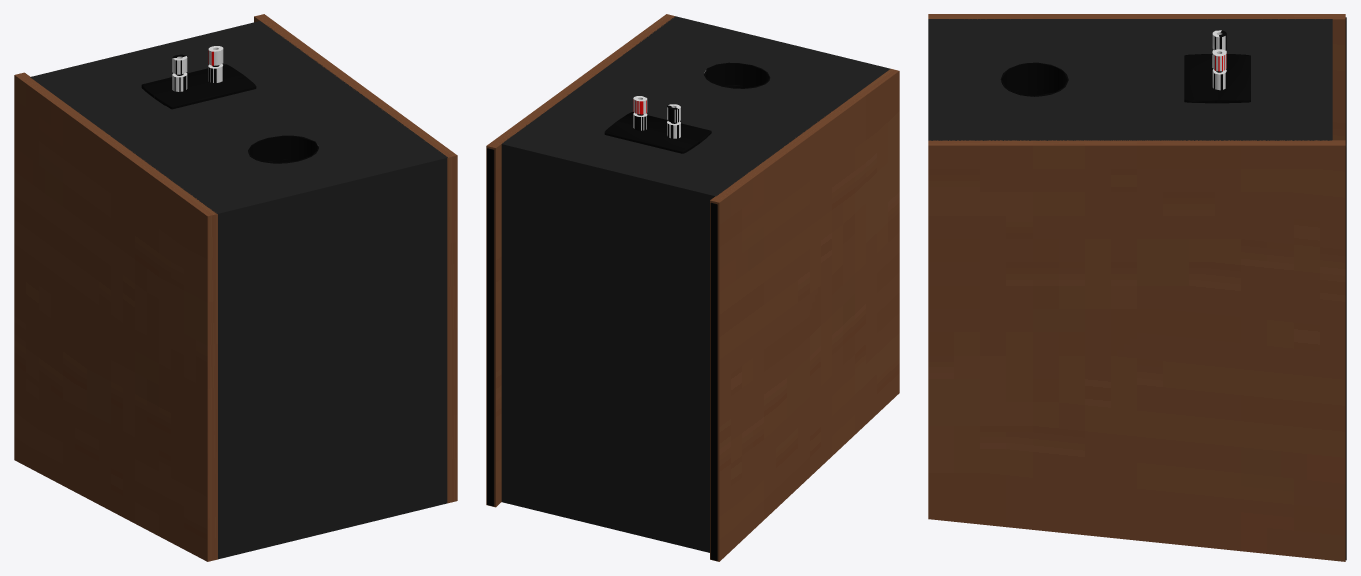
Rendered from spk-edifier-r1280db_lod2.glb.
3 renders of one model, left to right at view 1: azimuth 30°, elevation 25°; view 2: azimuth 150°, elevation 25°; view 3: azimuth 270°, elevation 25°, orthographic. The views are drawn at different scales.
Parts seen in each view (by area): view 1: body; view 2: body; view 3: body.
Part boxes in pixels (x1=…): body: x1=14, y1=14, x2=457, y2=561; body: x1=486, y1=14, x2=899, y2=561; body: x1=928, y1=14, x2=1346, y2=561.
Bounding box in the file's own units: 0.146 × 0.234 × 0.196.
Materials: 8 (2 with a texture image).
